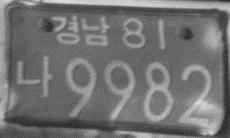1: (156, 14, 166, 50)
2: (175, 62, 213, 127)
8: (141, 60, 175, 122), (121, 16, 146, 49)
9: (65, 54, 98, 118), (102, 58, 135, 122)
경남_O: (50, 14, 111, 47)
나: (14, 53, 54, 99)
